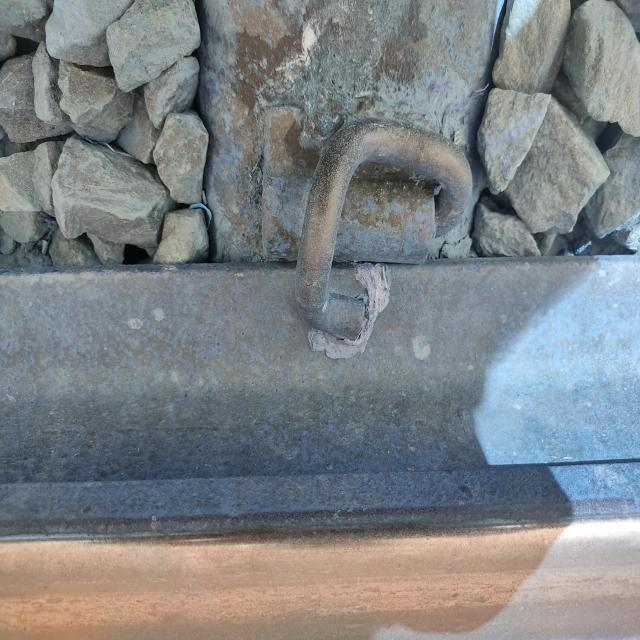Good Fasteners: (218, 90, 484, 361)
